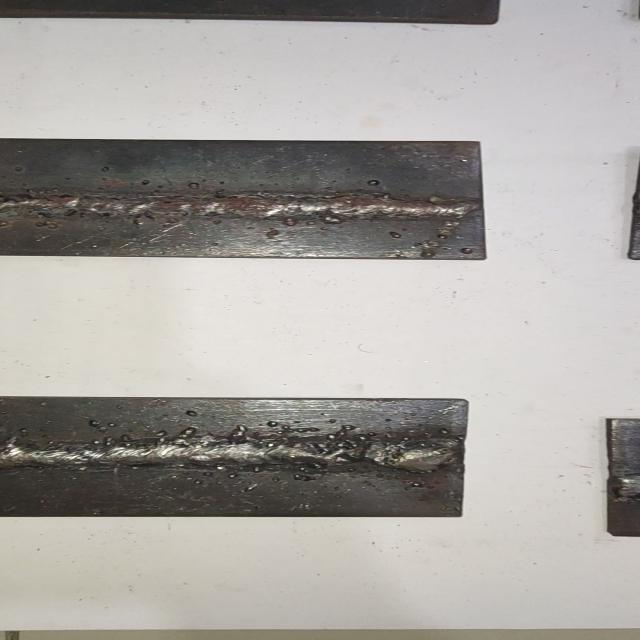Defect: (0, 184, 156, 228), (303, 425, 403, 479), (162, 418, 258, 440)
Welding Line: (0, 435, 464, 473), (0, 192, 482, 224)
Workpiece: (0, 135, 504, 264), (0, 391, 481, 521)
